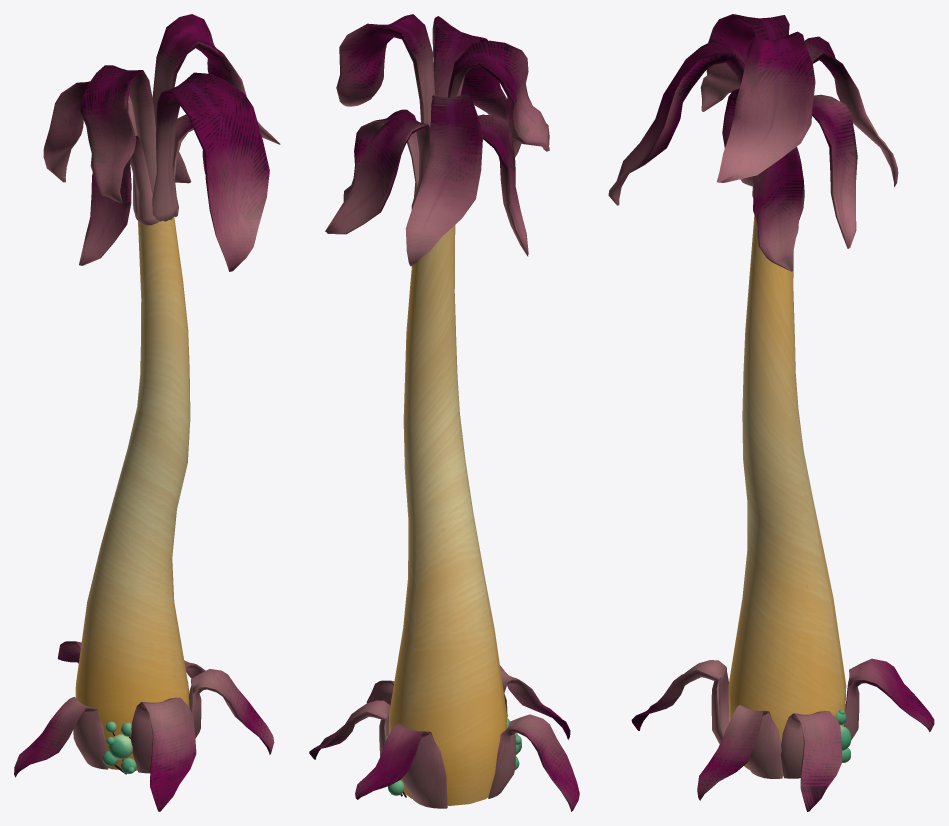
File: palmtree_02.fbx
3 renders of one model, left to right at view 1: azimuth 30°, elevation 25°; view 2: azimuth 150°, elevation 25°; view 3: azimuth 270°, elevation 25°, orthographic. The views are drawn at different scales.
Parts seen in each view (by area): view 1: palmtree_02; view 2: palmtree_02; view 3: palmtree_02.
Part boxes in pixels (x1,y1,x2,y2): palmtree_02: [14, 14, 280, 811]; palmtree_02: [309, 14, 579, 811]; palmtree_02: [608, 14, 934, 811].
Size of the model in its own units: 82.31 by 237 by 93.38.
Materials: 1 (1 with a texture image).
